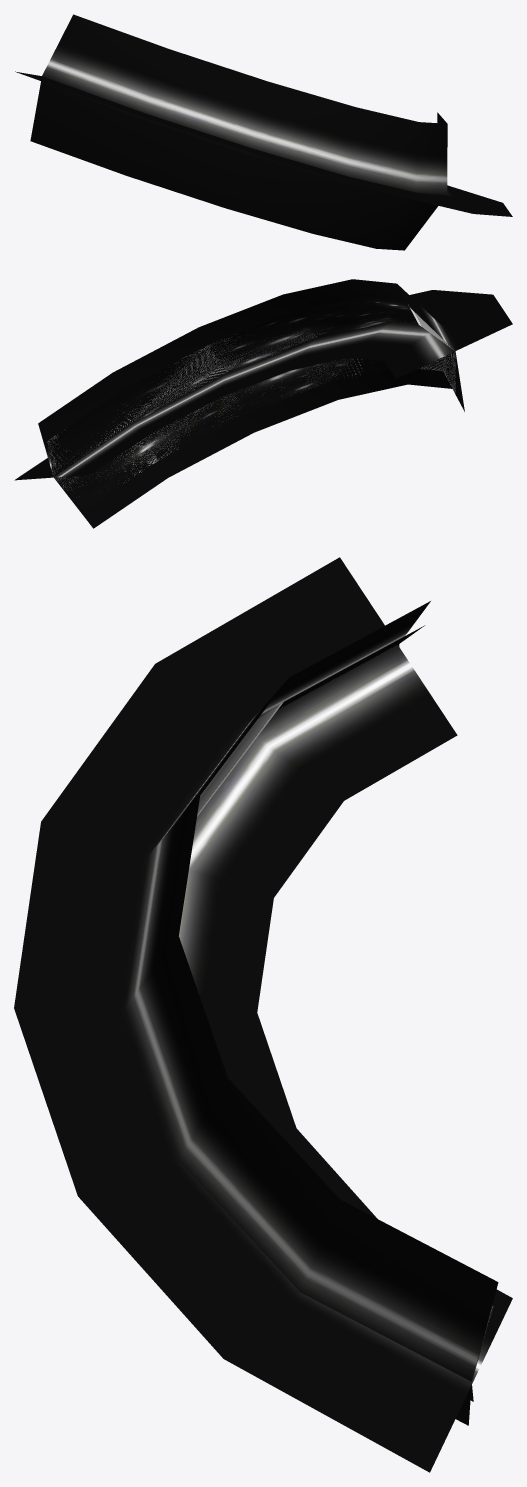
File: Effect_1120_4attack_S.fbx
3 views of the same model, one above another, from view 1: azimuth 30°, elevation 25°; view 2: azimuth 150°, elevation 25°; view 3: azimuth 270°, elevation 25° (orthographic). The views are drawn at different scales.
Visible parts, largest first — view 1: Sphere002; view 2: Sphere002, Sphere002 (1), Sphere002 (2); view 3: Sphere002, Sphere002 (2).
Part boxes in pixels (x1,y1,x2,y2): Sphere002: (15,14,512,250); Sphere002: (14,279,512,528); Sphere002 (1): (47,296,455,510); Sphere002 (2): (47,305,455,490); Sphere002: (14,557,512,1472); Sphere002 (2): (197,702,493,1353).
Size of the model in its own units: 6.29 by 3.66 by 3.04.
Materials: 3 (3 with a texture image).
